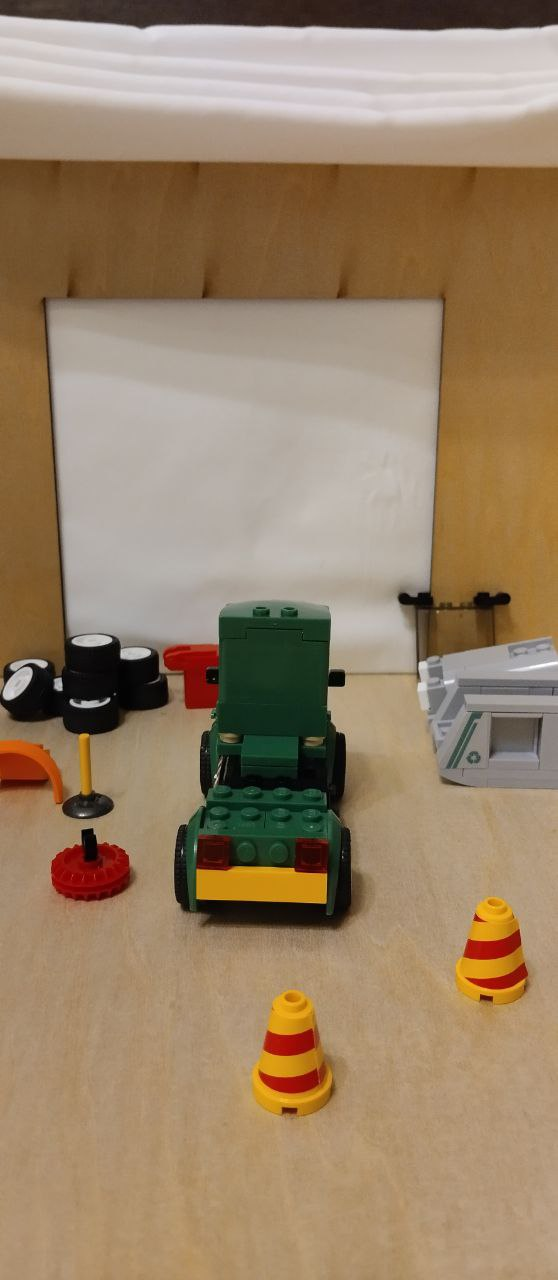Cone: (245, 990, 340, 1119), (448, 898, 543, 1010)
Object Red: (166, 632, 222, 716)
Truck: (170, 598, 351, 923)
